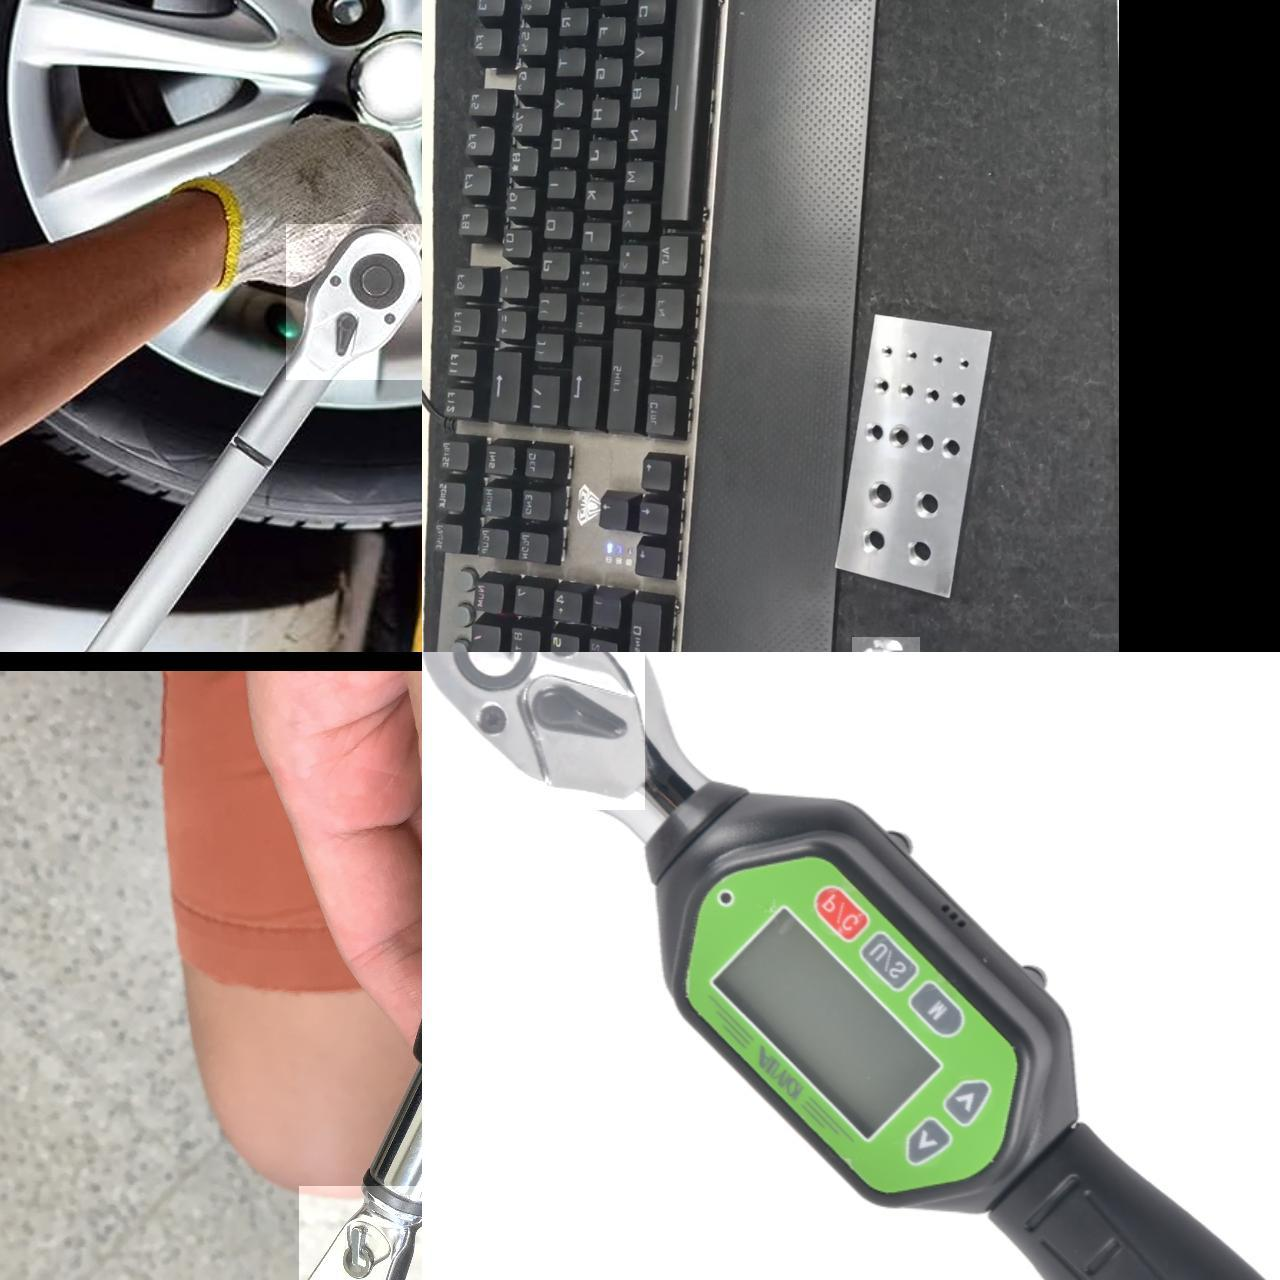Tool: (422, 652, 644, 810), (285, 224, 422, 380), (298, 1186, 422, 1280), (851, 636, 919, 652)
